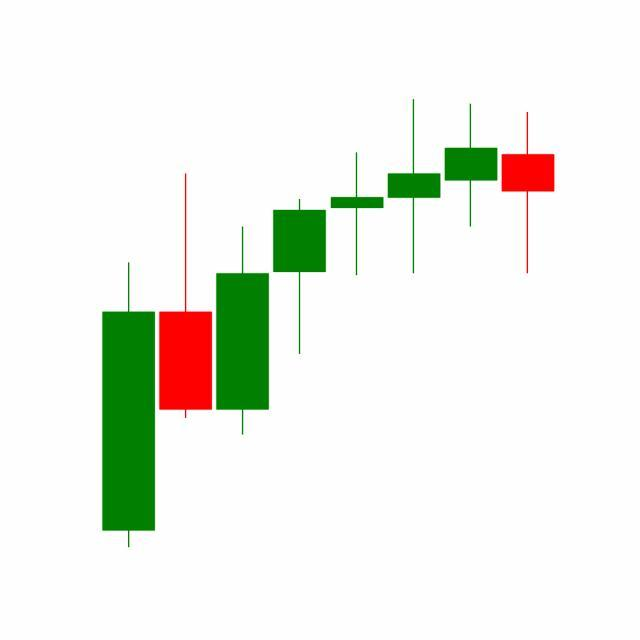Hikkake Pattern: (270, 100, 555, 360)
